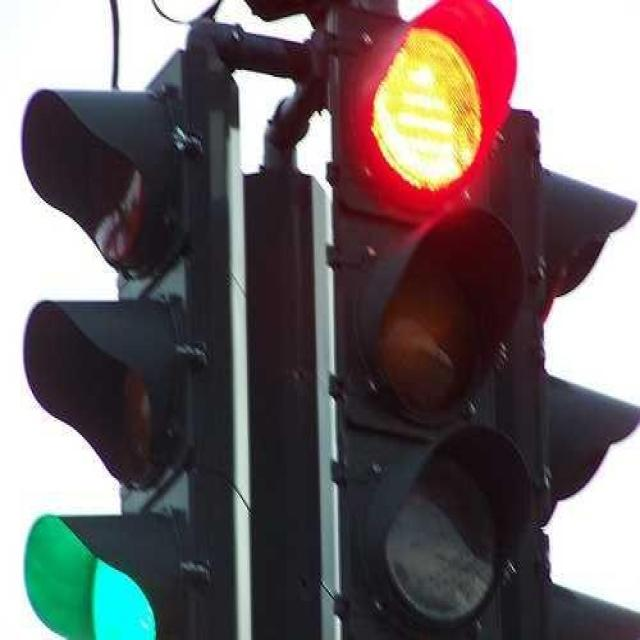Traffic Light -Green-: (16, 24, 260, 640)
Traffic Light -Red-: (322, 5, 542, 638)
